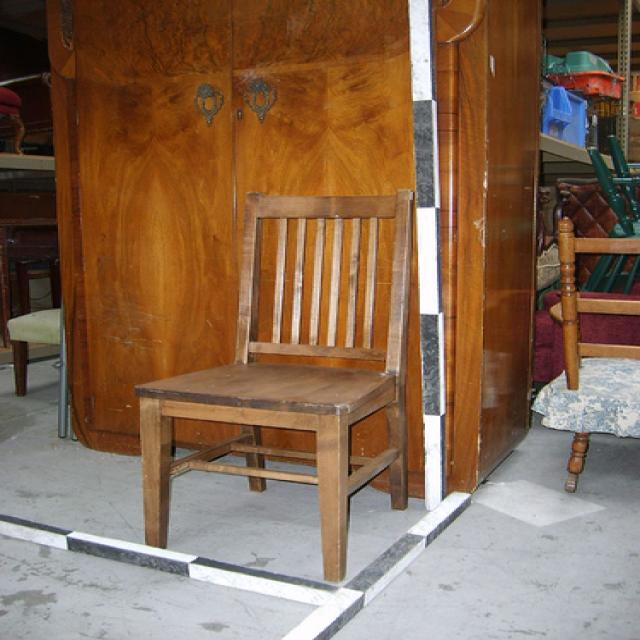chair: (133, 187, 419, 584)
